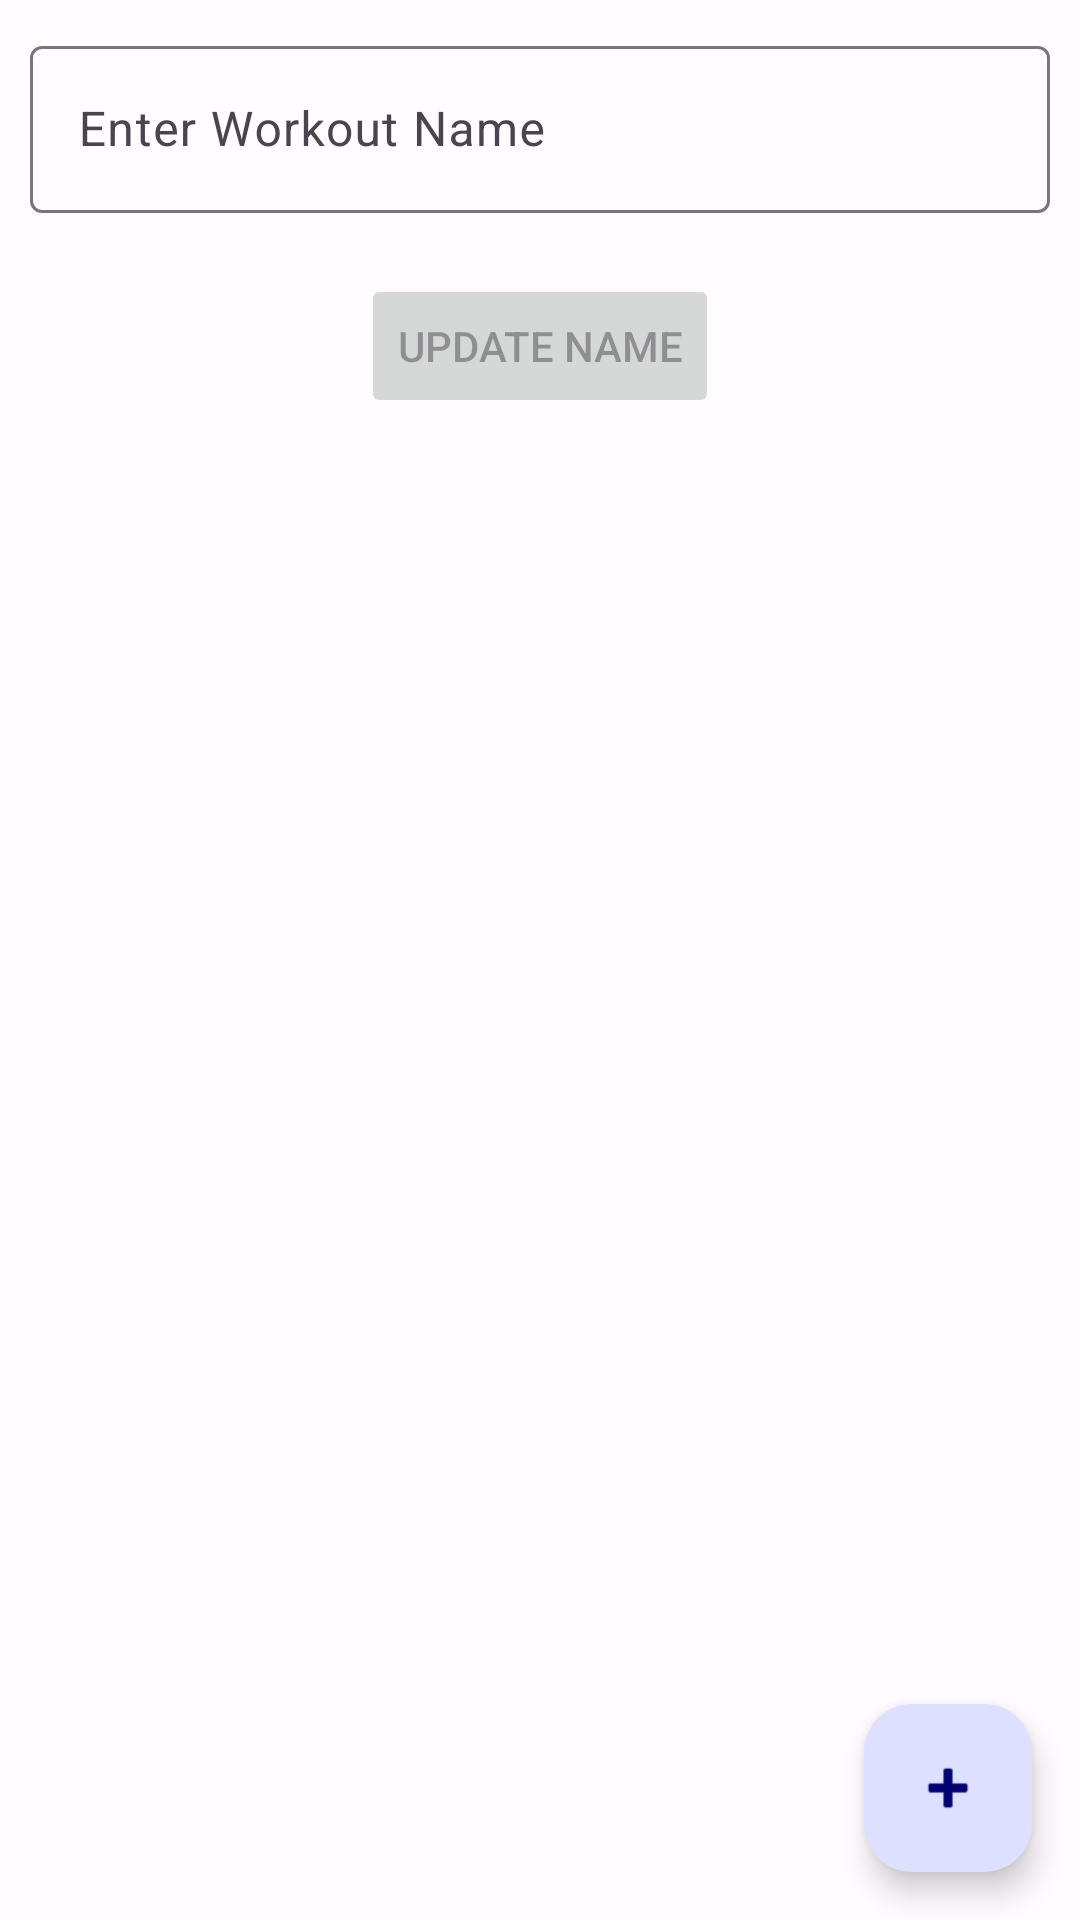

Named icons in this screenshot (1080px x 1920px) and their bounding boxes, detection(x1, y1, x2, y2):
Add Workout: detection(864, 1704, 1032, 1872)
